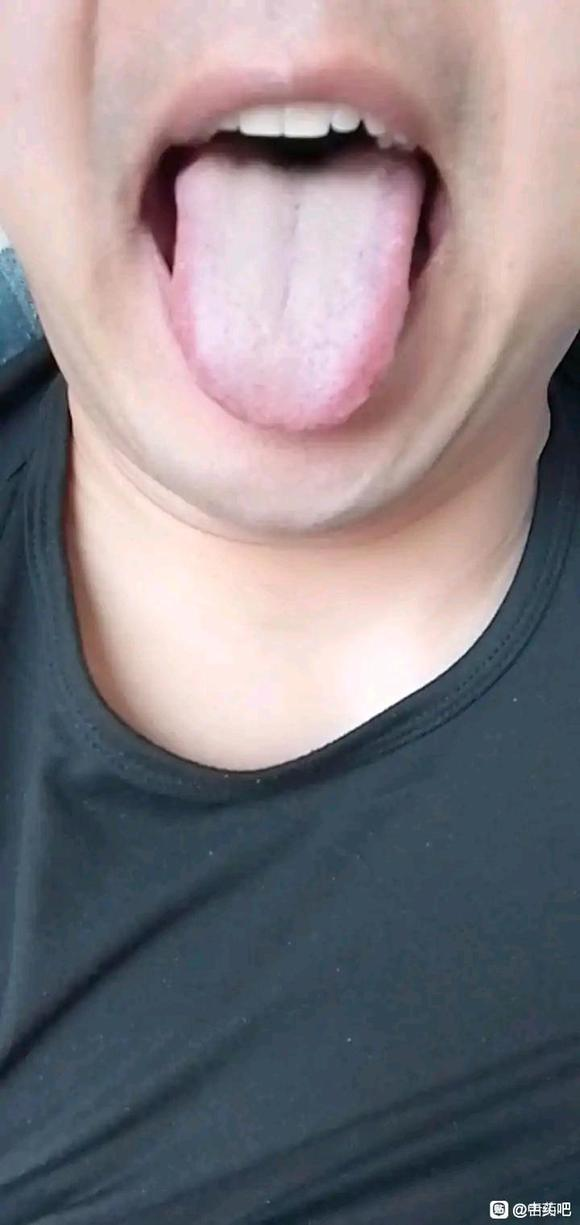baitaishe: (174, 146, 423, 432)
liewenshe: (278, 202, 298, 320)
shenquao: (219, 147, 373, 180)
